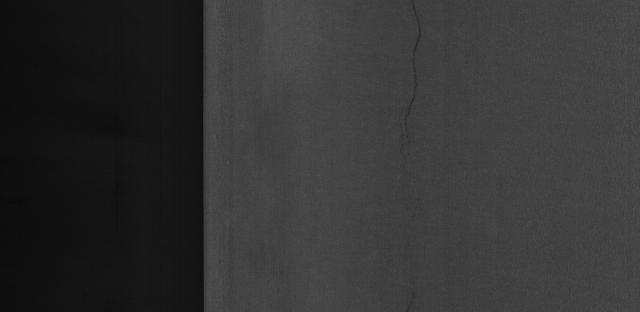water_spot: (390, 7, 441, 150)
